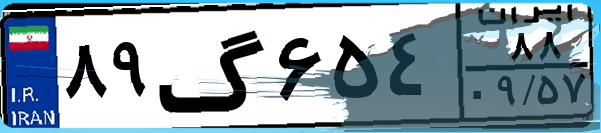0: (470, 70, 495, 125)
4: (385, 28, 445, 110)
5: (330, 28, 385, 110), (535, 70, 560, 125)
6: (270, 28, 330, 110)
7: (560, 70, 590, 125)
8: (57, 26, 110, 100), (537, 27, 568, 80), (508, 27, 537, 80)
9: (110, 28, 156, 98), (495, 70, 520, 125)
گ: (156, 12, 270, 120)
